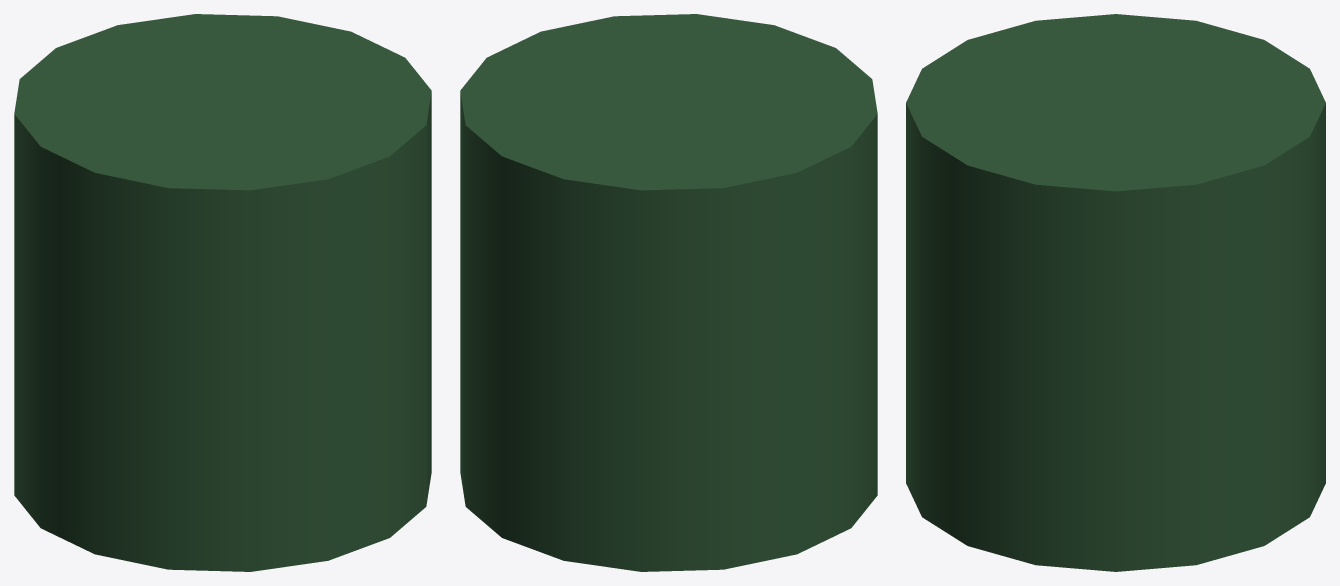
3 renders of one model, left to right at view 1: azimuth 30°, elevation 25°; view 2: azimuth 150°, elevation 25°; view 3: azimuth 270°, elevation 25°, orthographic.
Visible parts, largest first — view 1: cylinder-leaf; view 2: cylinder-leaf; view 3: cylinder-leaf.
Boxes of the visible parts, left/top/right/bottom form: cylinder-leaf: left=14, top=14, right=431, bottom=571; cylinder-leaf: left=460, top=14, right=877, bottom=571; cylinder-leaf: left=906, top=14, right=1325, bottom=571.
Bounding box in the file's own units: 1 × 1 × 1.
